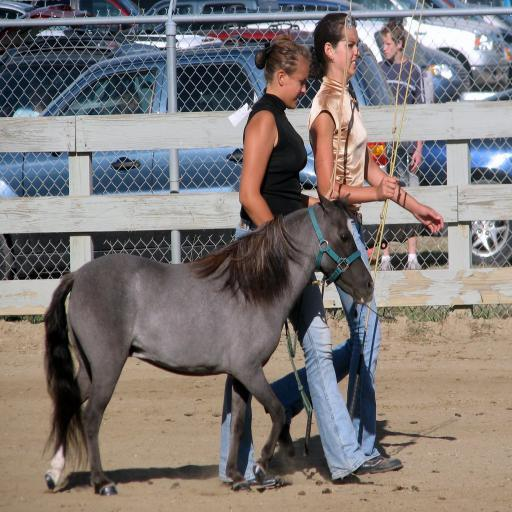Horse: (39, 189, 375, 498)
